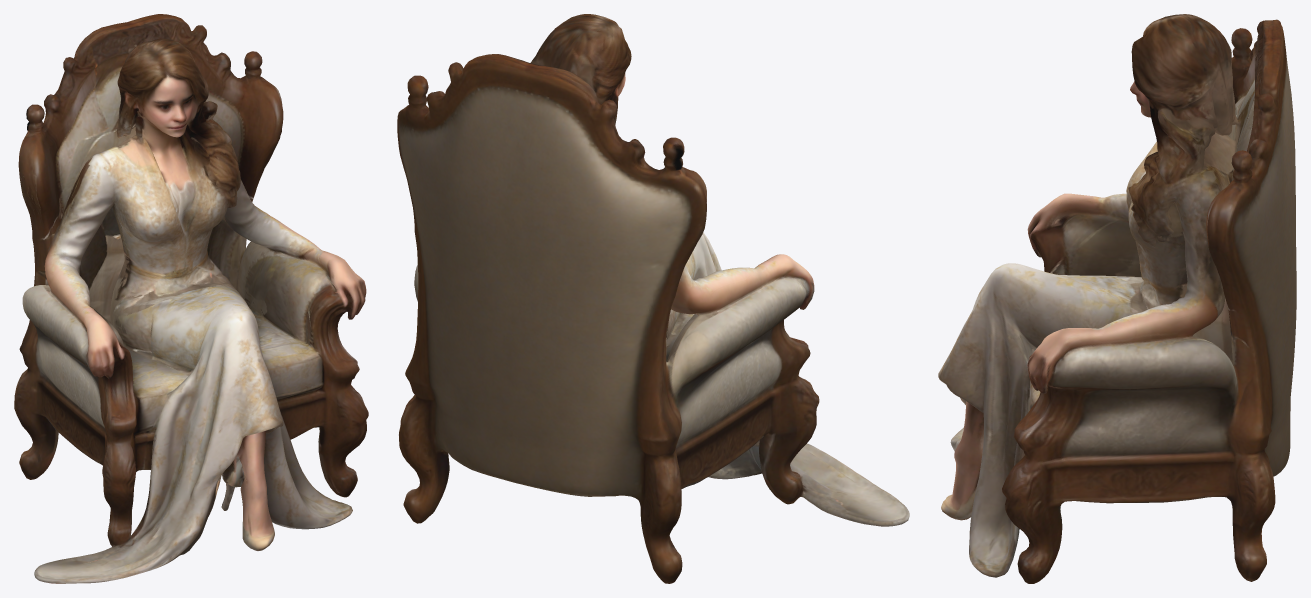
Rendered from introcharacter.glb.
3 views of the same model, side by side, from view 1: azimuth 30°, elevation 25°; view 2: azimuth 150°, elevation 25°; view 3: azimuth 270°, elevation 25° (orthographic). The views are drawn at different scales.
Visible parts, largest first — view 1: tmpjol0fveb.ply_Material.001_0; view 2: tmpjol0fveb.ply_Material.001_0; view 3: tmpjol0fveb.ply_Material.001_0.
Part boxes in pixels (bbox=[...]): tmpjol0fveb.ply_Material.001_0: bbox=[14, 14, 368, 583]; tmpjol0fveb.ply_Material.001_0: bbox=[397, 14, 909, 583]; tmpjol0fveb.ply_Material.001_0: bbox=[938, 14, 1296, 583].
Size of the model in its own units: 1.66 by 2 by 1.3.
1 material, 1 textured.
